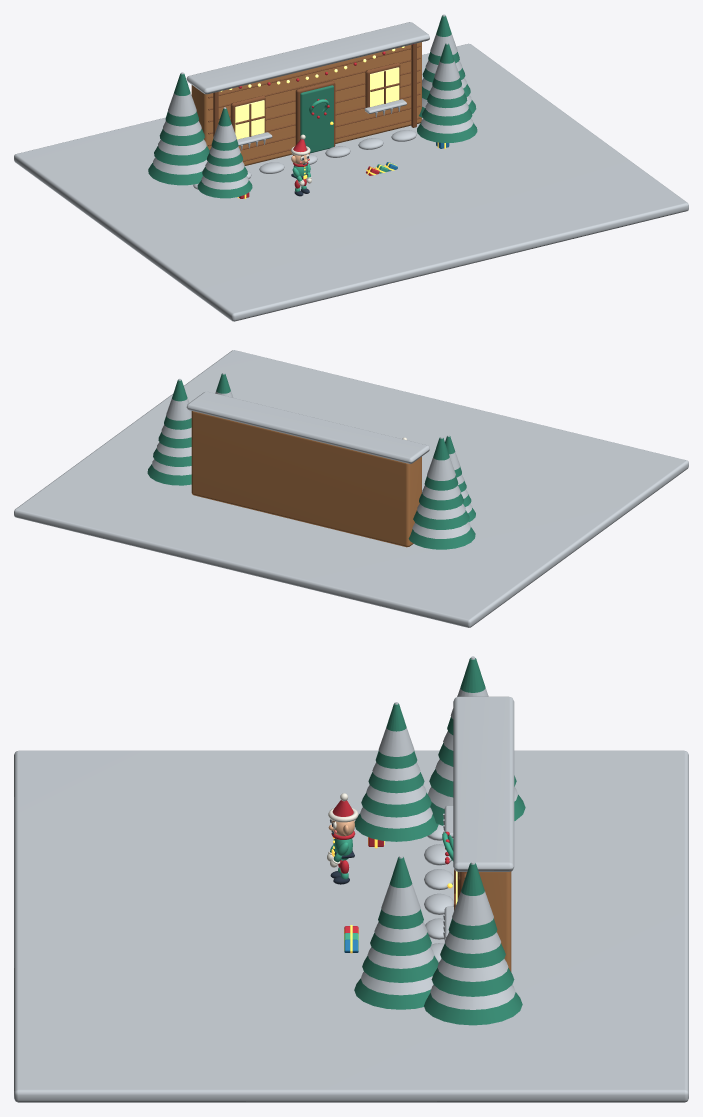
File: chapter-12.glb
3 views of the same model, one above another, from view 1: azimuth 30°, elevation 25°; view 2: azimuth 150°, elevation 25°; view 3: azimuth 270°, elevation 25° (orthographic). The views are drawn at different scales.
Visible parts, largest first — view 1: Schneeboden, Werkstatt, Schneegesims, Wichteltür, Warmes Fenster, Warmes Fenster.001, Tannenzweig.004, Tannenzweig.008, Tannenzweig.009, Türrahmen, Tannenzweig.011, Schnee.011 (+7 smaller); view 2: Schneeboden, Werkstatt, Schneegesims, Tannenzweig.008, Tannenzweig.009, Tannenzweig.011, Schnee.008, Schnee.011, Tannenzweig.015, Tannenzweig.012, Tannenzweig.010, Schnee.009 (+1 smaller); view 3: Schneeboden, Schneegesims, Werkstatt, Tannenzweig.012, Tannenzweig.013, Tannenzweig.015, Tannenzweig, Schnee.012, Tannenzweig.005, Tannenzweig.004, Schnee.015, Tannenzweig.007 (+15 smaller).
Boxes of the visible parts, box(x1,y1,x2,y2) form: Schneeboden: box(14, 43, 688, 321); Werkstatt: box(191, 42, 421, 165); Schneegesims: box(186, 22, 429, 94); Wichteltür: box(300, 85, 333, 153); Warmes Fenster: box(235, 100, 264, 139); Warmes Fenster.001: box(370, 67, 399, 106); Tannenzweig.004: box(417, 122, 477, 142); Tannenzweig.008: box(148, 163, 202, 185); Tannenzweig.009: box(154, 146, 209, 165); Türrahmen: box(295, 81, 335, 146); Tannenzweig.011: box(165, 73, 198, 126); Schnee.011: box(168, 72, 196, 116); Schneeboden: box(14, 350, 688, 627); Werkstatt: box(191, 411, 421, 547); Schneegesims: box(186, 391, 429, 463); Tannenzweig.008: box(408, 527, 475, 549); Tannenzweig.009: box(413, 510, 469, 529); Tannenzweig.011: box(424, 437, 458, 490); Schnee.008: box(412, 522, 470, 538); Schnee.011: box(427, 436, 455, 480); Tannenzweig.015: box(164, 380, 191, 429); Tannenzweig.012: box(147, 464, 191, 485); Tannenzweig.010: box(419, 493, 463, 510); Schnee.009: box(417, 504, 465, 519); Schneeboden: box(14, 750, 688, 1102); Schneegesims: box(453, 696, 514, 871); Werkstatt: box(466, 871, 511, 971); Tannenzweig.012: box(424, 992, 522, 1025); Tannenzweig.013: box(431, 968, 514, 996); Tannenzweig.015: box(448, 863, 497, 939); Tannenzweig: box(354, 813, 438, 841); Schnee.012: box(430, 985, 515, 1009); Tannenzweig.005: box(362, 955, 438, 982); Tannenzweig.004: box(354, 978, 430, 1009); Schnee.015: box(452, 861, 493, 925); Tannenzweig.007: box(378, 857, 423, 929).
Size of the model in its own units: 18 by 4.39 by 15.
